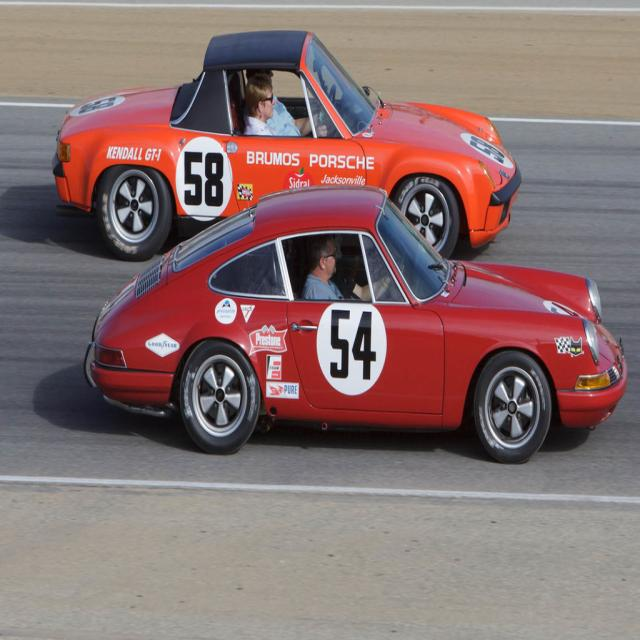car: (84, 180, 628, 467)
